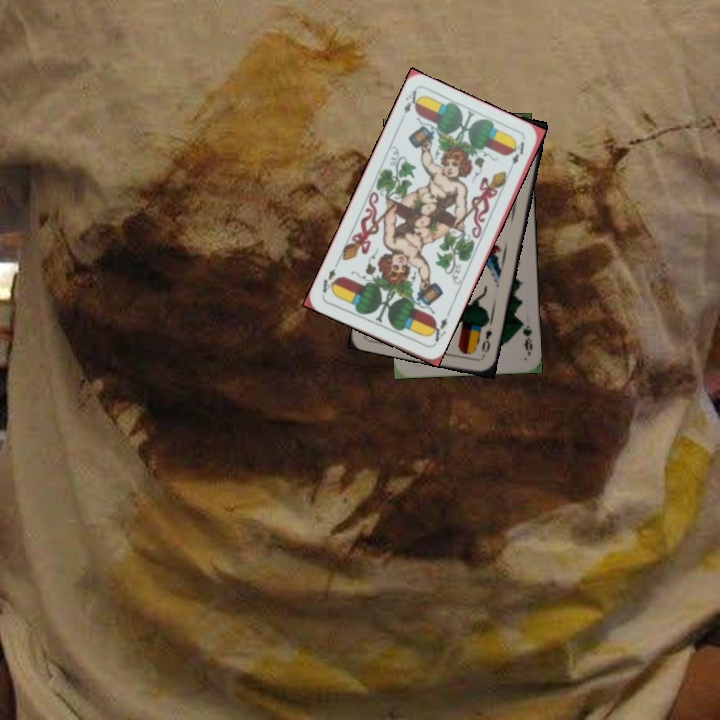EA: (425, 314, 450, 348), (399, 86, 423, 116)
EO: (477, 324, 495, 359)
G9: (519, 322, 535, 352)
